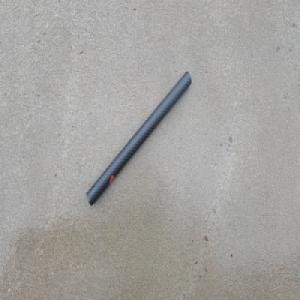LuggagePart: (86, 70, 192, 207)
